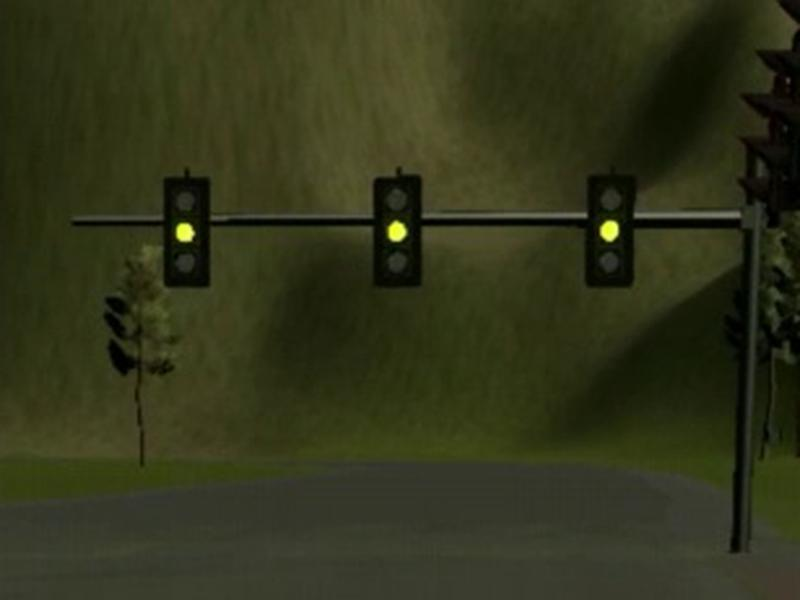Yellow: (582, 173, 636, 287), (371, 174, 424, 286), (163, 176, 210, 287)
